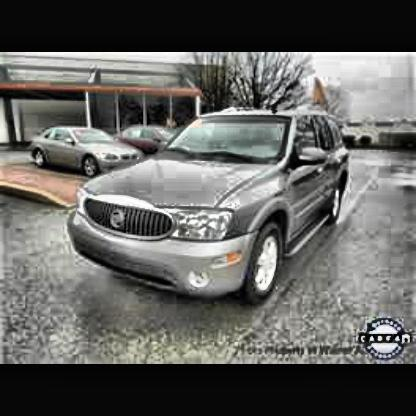Buick Rainier SUV 2007: (70, 107, 355, 303)
